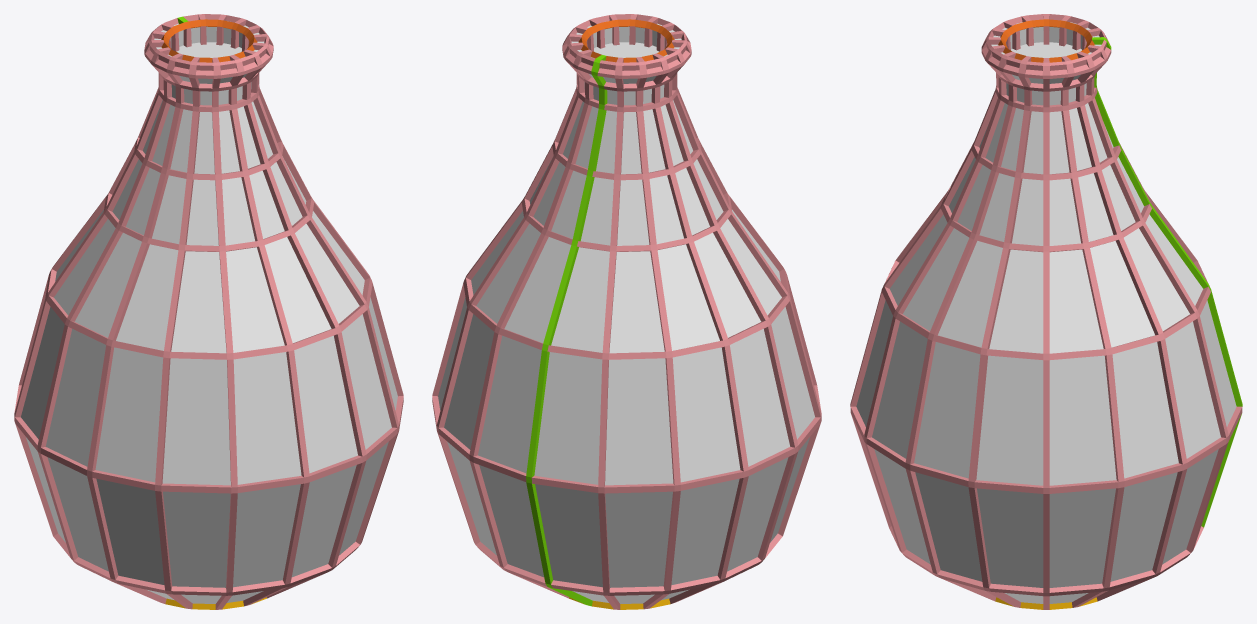
Rendered from Vase.fbx.
3 renders of one model, left to right at view 1: azimuth 30°, elevation 25°; view 2: azimuth 150°, elevation 25°; view 3: azimuth 270°, elevation 25°, orthographic.
Parts seen in each view (by area): view 1: vase.001; view 2: vase.001; view 3: vase.001.
Boxes of the visible parts, left/top/right/bottom form: vase.001: left=14, top=14, right=403, bottom=609; vase.001: left=432, top=14, right=821, bottom=609; vase.001: left=850, top=14, right=1242, bottom=609.
Bounding box in the file's own units: 73.42 × 112 × 73.42.
